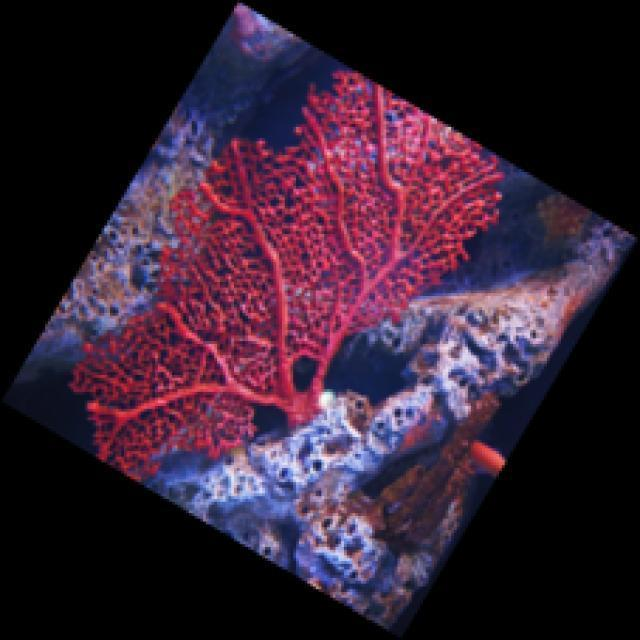Healthy: (66, 70, 505, 483)
